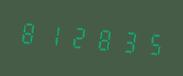eight: (17, 13, 40, 51), (90, 19, 113, 57)
five: (138, 24, 161, 62)
one: (41, 15, 64, 53)
three: (114, 22, 137, 59)
two: (66, 17, 89, 55)
